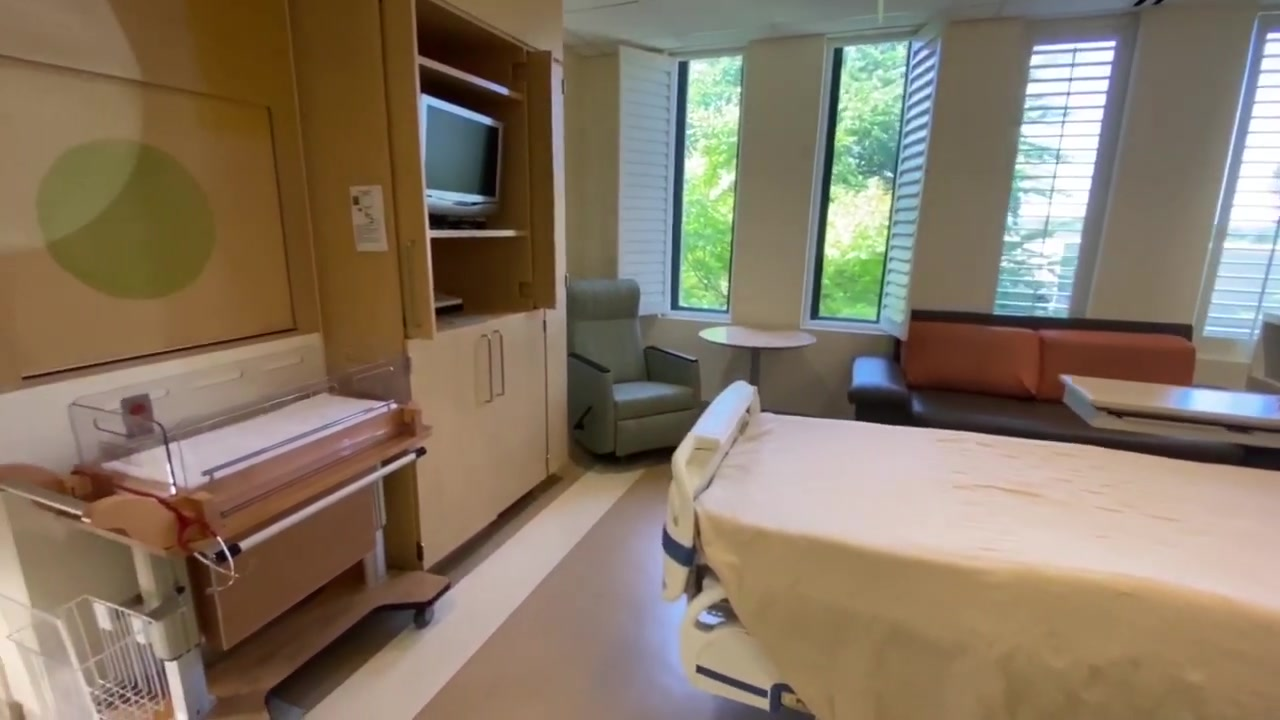TV: (421, 94, 507, 234)
bedrail: (679, 579, 814, 711)
foot_board: (655, 378, 764, 601)
handle: (399, 238, 427, 331), (490, 329, 513, 399), (476, 335, 496, 404)
hospital_bed: (659, 377, 1280, 720)
overbed_table: (1058, 370, 1280, 444)
sofa: (848, 302, 1280, 463), (567, 277, 712, 457)
table: (698, 325, 820, 392)
